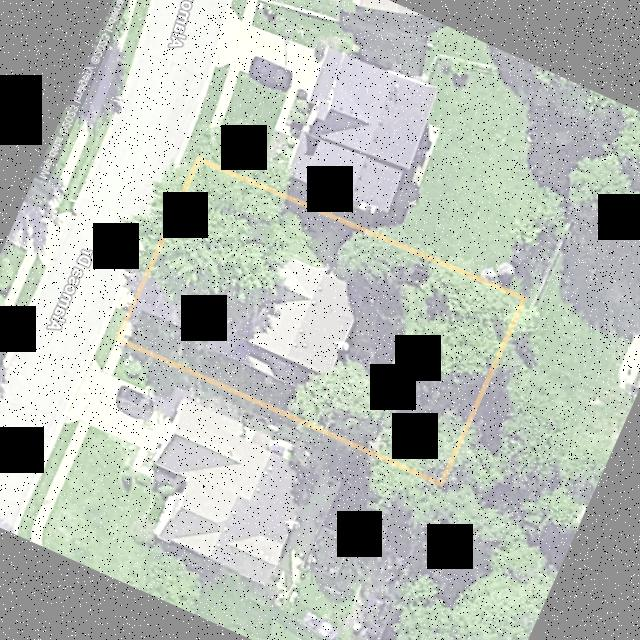Driveway: (134, 279, 309, 386)
Extra Driveway: (115, 264, 142, 309)
Extra Lawn: (134, 151, 197, 274), (103, 307, 129, 339)
House: (250, 258, 353, 372)
Other: (120, 311, 139, 340)
